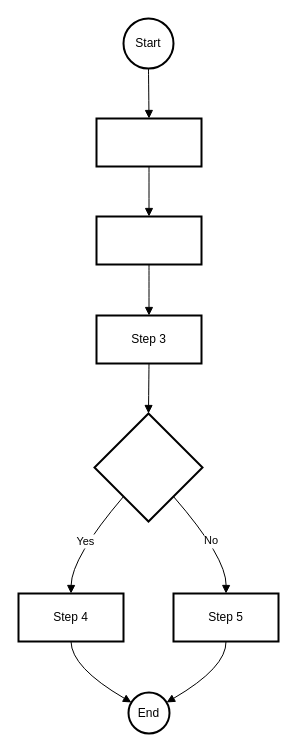
Some shapes in this 296 by 751 pixel diagram are drawn without their labels. Here are the shapes that lost their labels. From the top down, the centre of each, then its label:
point (148, 142): Step 1
point (148, 240): Step 2
point (148, 467): Decision
